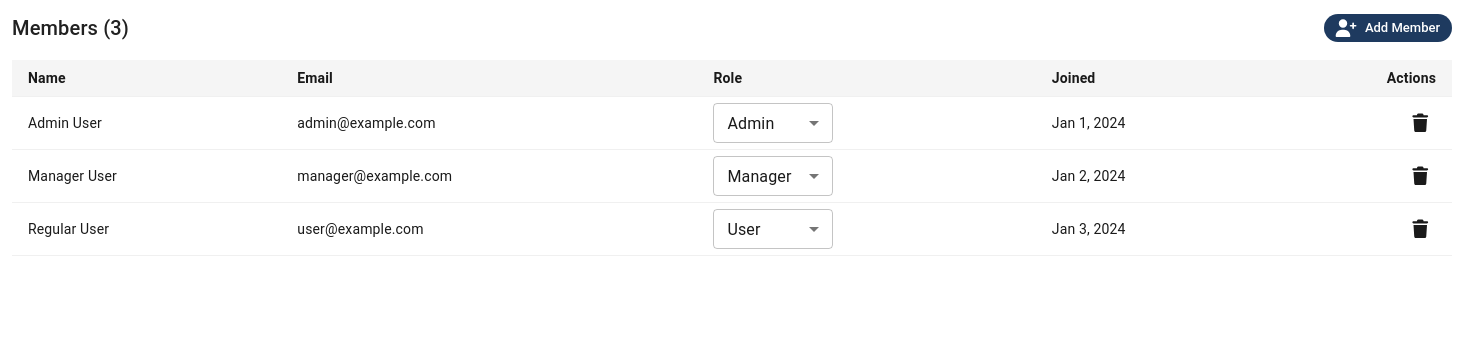
Scenario: OrgMembersTable › Error Handling › allows dismissing error alerts
Trigger error
Click the dropdown labelled "Admin" at x=751, y=123, box [727,114,774,132]
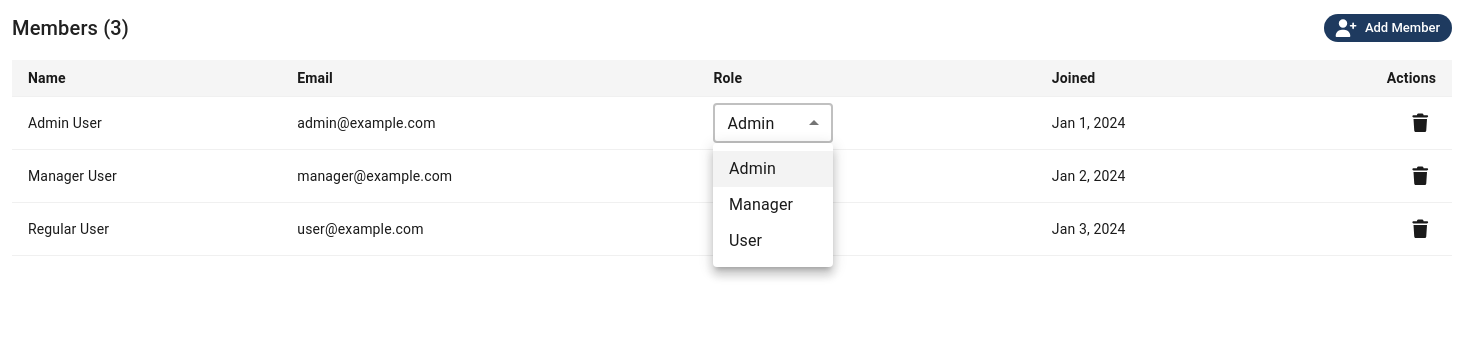
Click the option "Manager" at x=761, y=204, box [729,195,793,214]
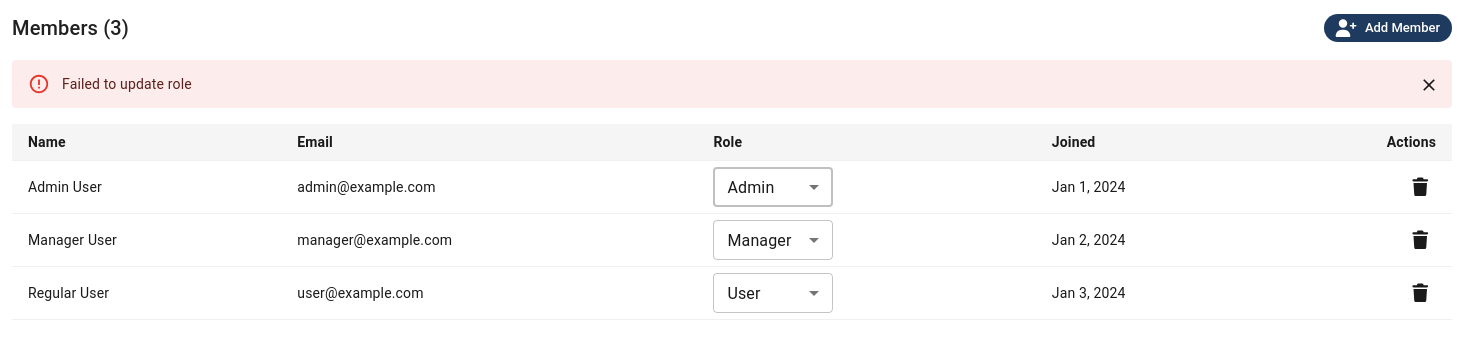
Now the text "Failed to update role" is shown, box [62,76,192,92]
Close the error
Click the button named "close" at x=1429, y=85, box [1414,70,1444,100]
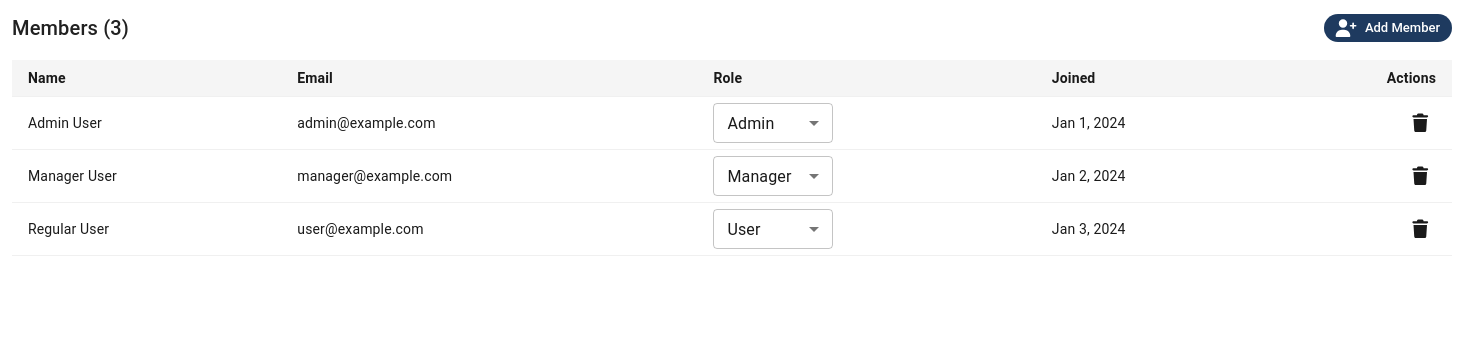
Now the text "Failed to update role" is gone
